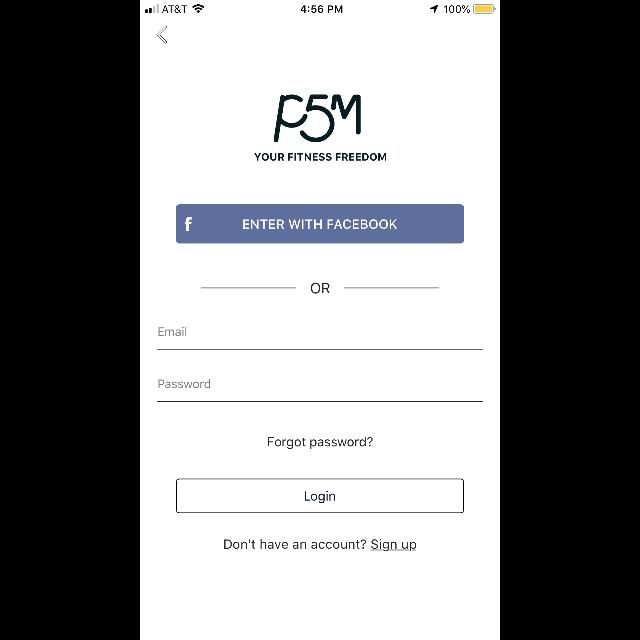icon: (156, 26, 168, 44)
image: (274, 95, 360, 143)
input: (158, 378, 482, 402), (158, 326, 482, 349)
text: (224, 538, 416, 552), (269, 437, 373, 449), (254, 153, 386, 161), (158, 379, 210, 388), (159, 326, 187, 336), (312, 282, 331, 294)
textbutton: (176, 204, 464, 243), (176, 478, 464, 514)
uppertaskbar: (140, 0, 500, 14)
